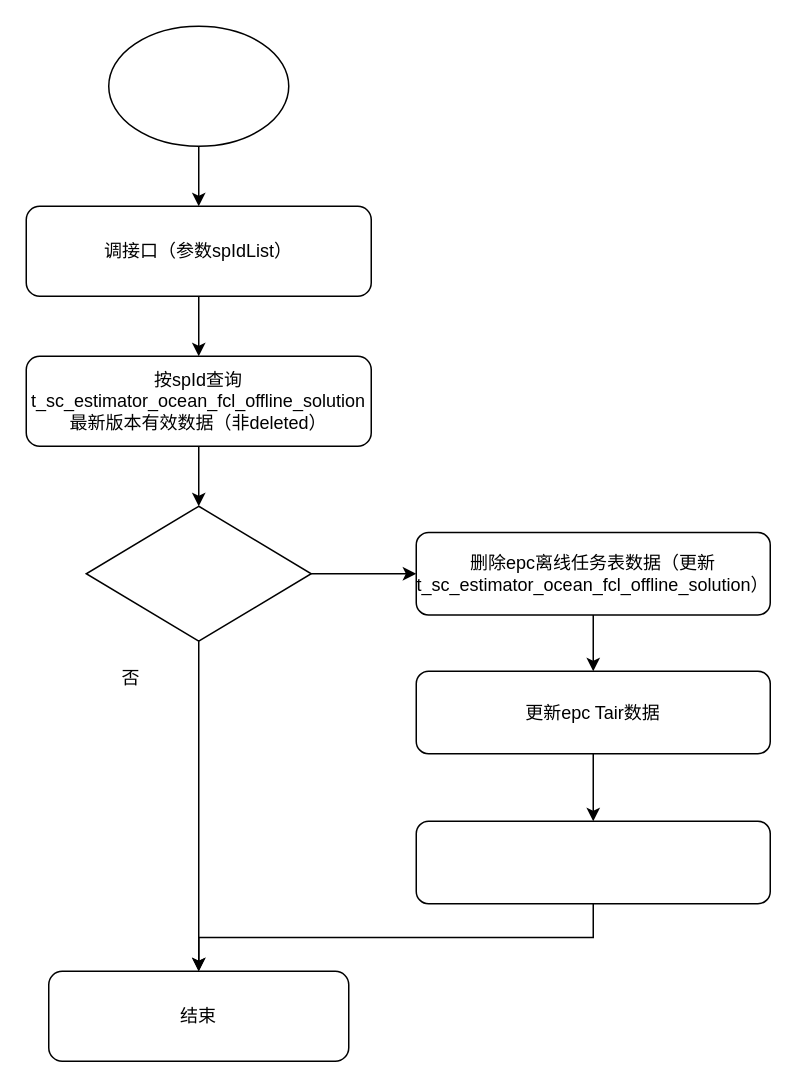
This 797x1088 diagram has some shape labels left out. Here are the shapes that lost their labels. From the top down, the box of each, then its label:
(107, 25, 289, 146): 开始
(85, 505, 311, 641): 是否有值
(415, 820, 770, 904): 更新版本线路表（删除该spId数据）
